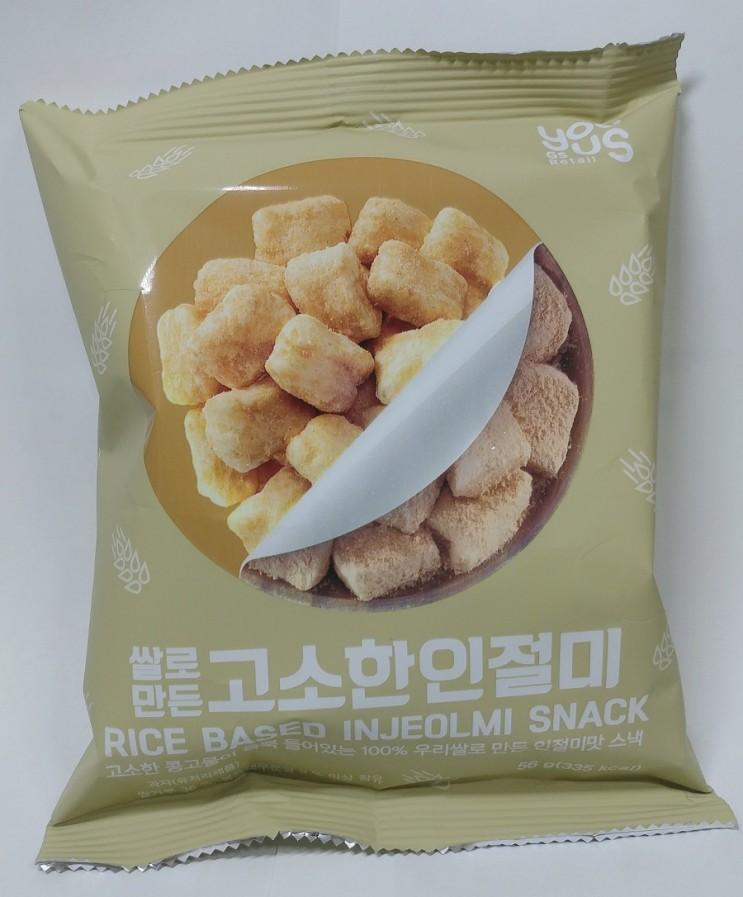snack: (16, 27, 743, 877)
